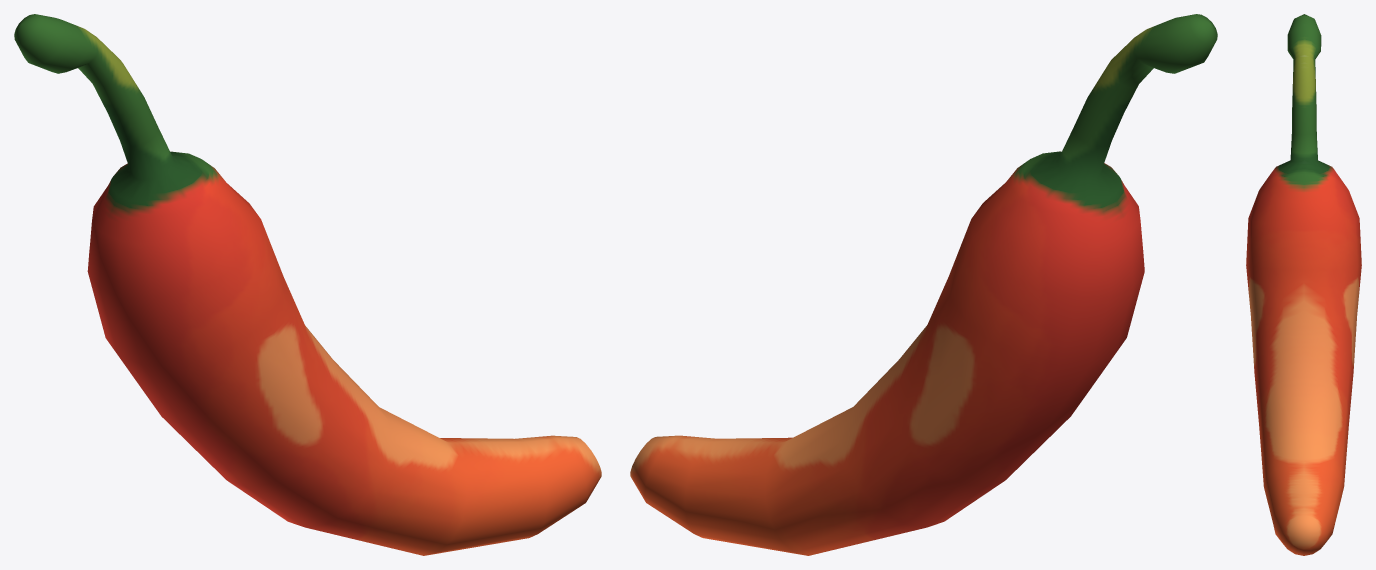
The picture shows the model from 3 angles, left to right: view 1: azimuth 30°, elevation 25°; view 2: azimuth 150°, elevation 25°; view 3: azimuth 270°, elevation 25°; orthographic projection. The views are drawn at different scales.
Parts seen in each view (by area): view 1: pepper; view 2: pepper; view 3: pepper.
Boxes of the visible parts, left/top/right/bottom form: pepper: left=14, top=14, right=601, bottom=555; pepper: left=630, top=14, right=1217, bottom=555; pepper: left=1246, top=14, right=1361, bottom=555.
Bounding box in the file's own units: 0.8609 × 0.9056 × 0.2432.
Materials: 1 (1 with a texture image).
